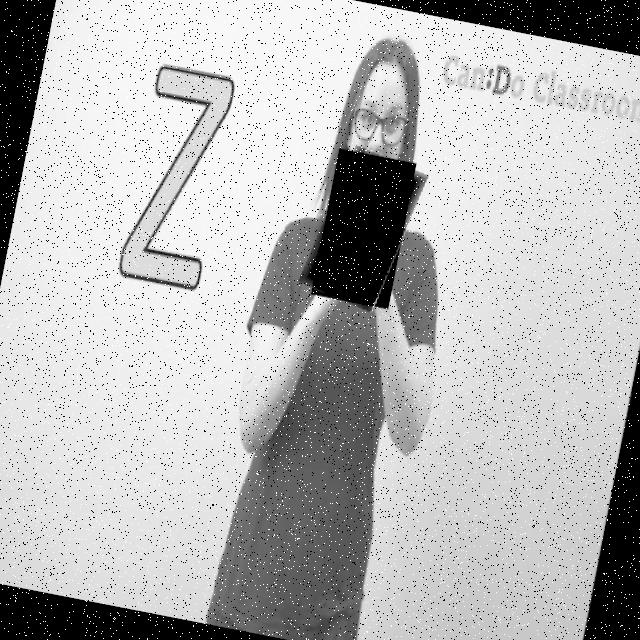Z: (303, 145, 425, 315)
